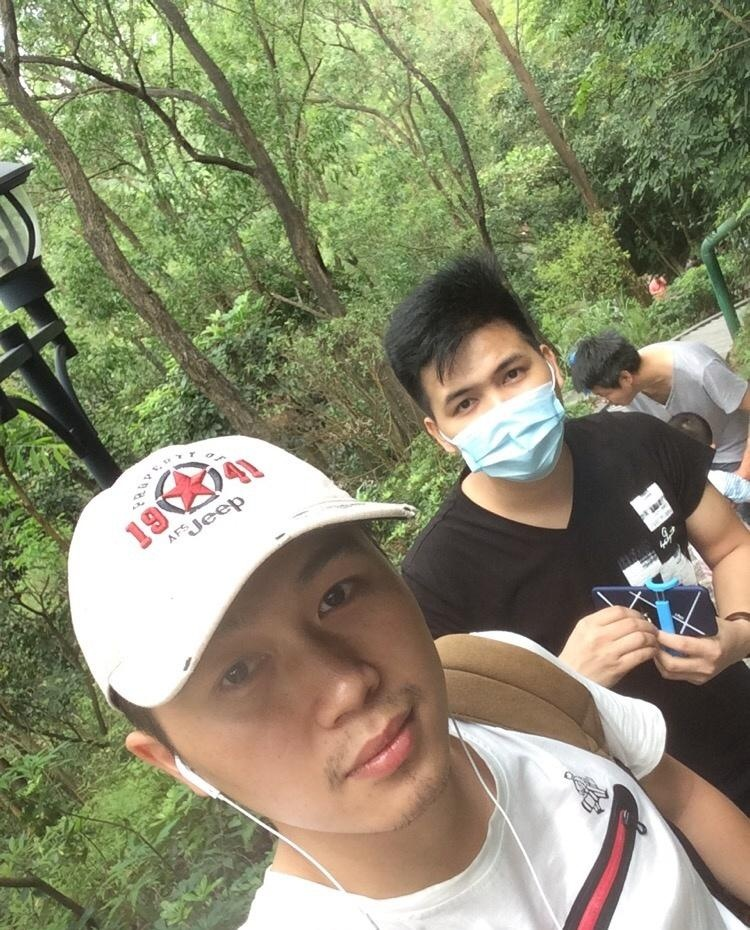Mask: (445, 352, 577, 483)
